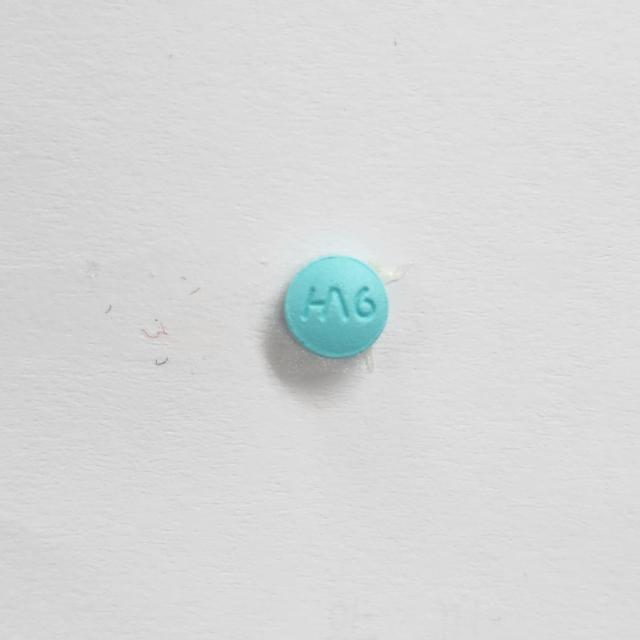pill: (276, 245, 392, 362)
